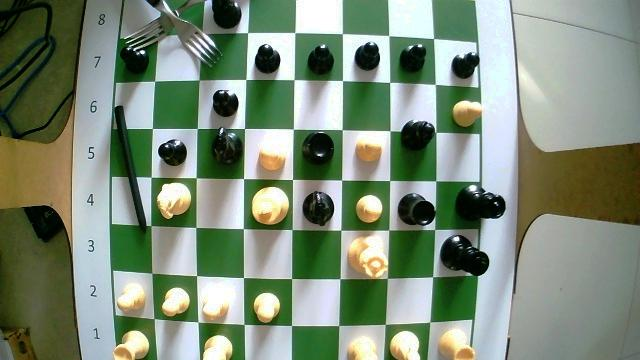piece: (441, 235, 488, 275), (347, 236, 388, 277), (456, 185, 505, 219), (251, 187, 288, 224), (397, 193, 435, 224), (157, 183, 189, 218), (302, 191, 334, 226), (301, 132, 333, 164), (401, 120, 435, 149), (114, 330, 148, 359), (441, 329, 473, 359), (212, 128, 239, 162), (121, 39, 148, 72), (390, 331, 419, 359), (116, 283, 145, 311), (307, 44, 334, 74), (161, 287, 188, 316), (252, 293, 279, 322), (212, 0, 239, 28), (355, 195, 382, 223), (200, 292, 229, 318), (451, 52, 479, 78), (451, 101, 480, 126), (158, 140, 187, 165), (400, 44, 426, 71), (255, 44, 279, 73), (212, 90, 238, 116), (354, 42, 378, 70), (202, 335, 230, 359), (348, 338, 376, 359), (355, 141, 380, 162), (259, 151, 284, 169)
